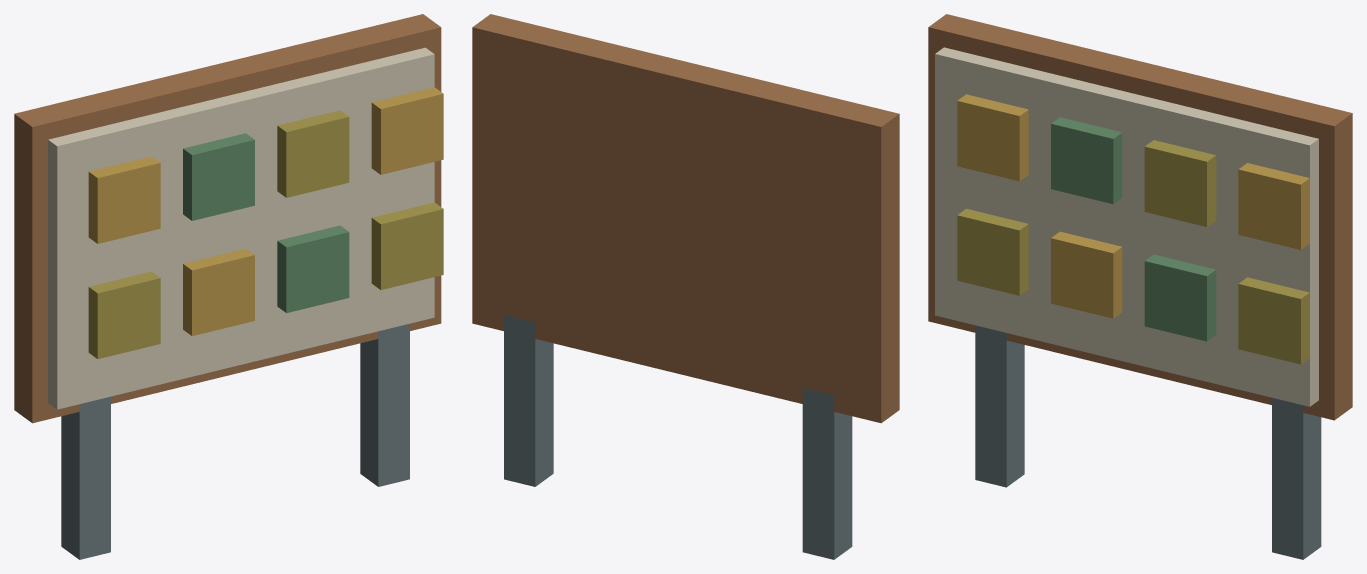
File: energy-13.glb
3 renders of one model, left to right at view 1: azimuth 30°, elevation 25°; view 2: azimuth 150°, elevation 25°; view 3: azimuth 330°, elevation 25°, orthographic.
Visible parts, largest first — view 1: Grid board; view 2: Grid board; view 3: Grid board.
Boxes of the visible parts, box(x1,y1,x2,y2) form: Grid board: box(14, 14, 443, 559); Grid board: box(472, 14, 899, 559); Grid board: box(928, 14, 1352, 559).
Size of the model in its own units: 2.08 by 2.16 by 0.32.
